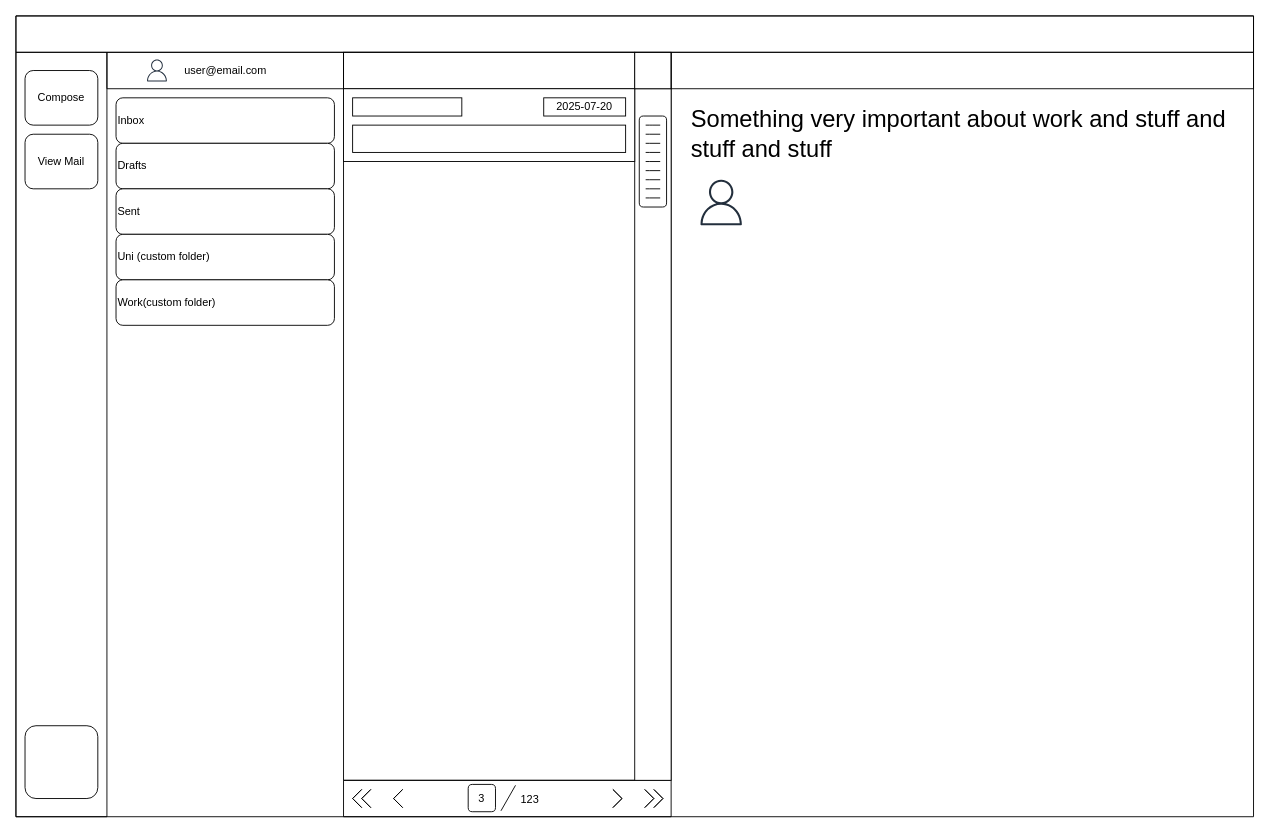
This 1269x833 diagram has some shape labels left out. The box of each missing label's shape, as (x1, y1, x2, y2) in pixels:
boss@email.com: (352, 97, 462, 116)
Log-out: (24, 725, 98, 799)
Search: (343, 51, 635, 89)
Something very important about work and stuff...: (352, 124, 626, 152)
